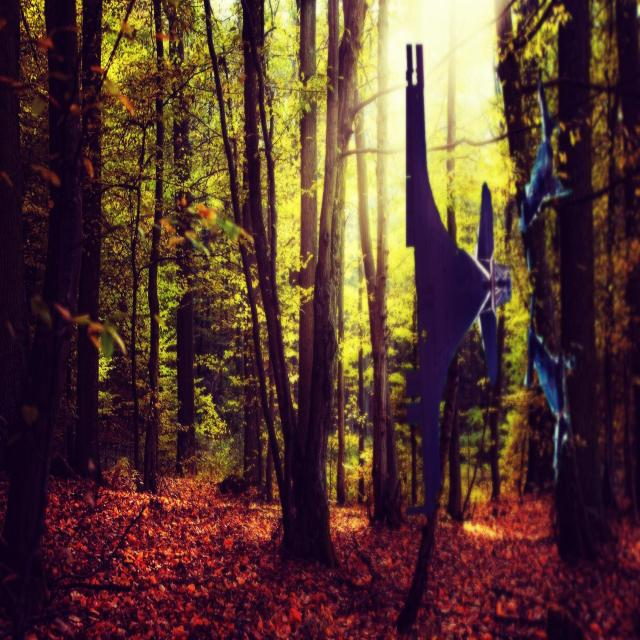airplane: (403, 42, 512, 519), (522, 293, 574, 483), (520, 86, 572, 275)
